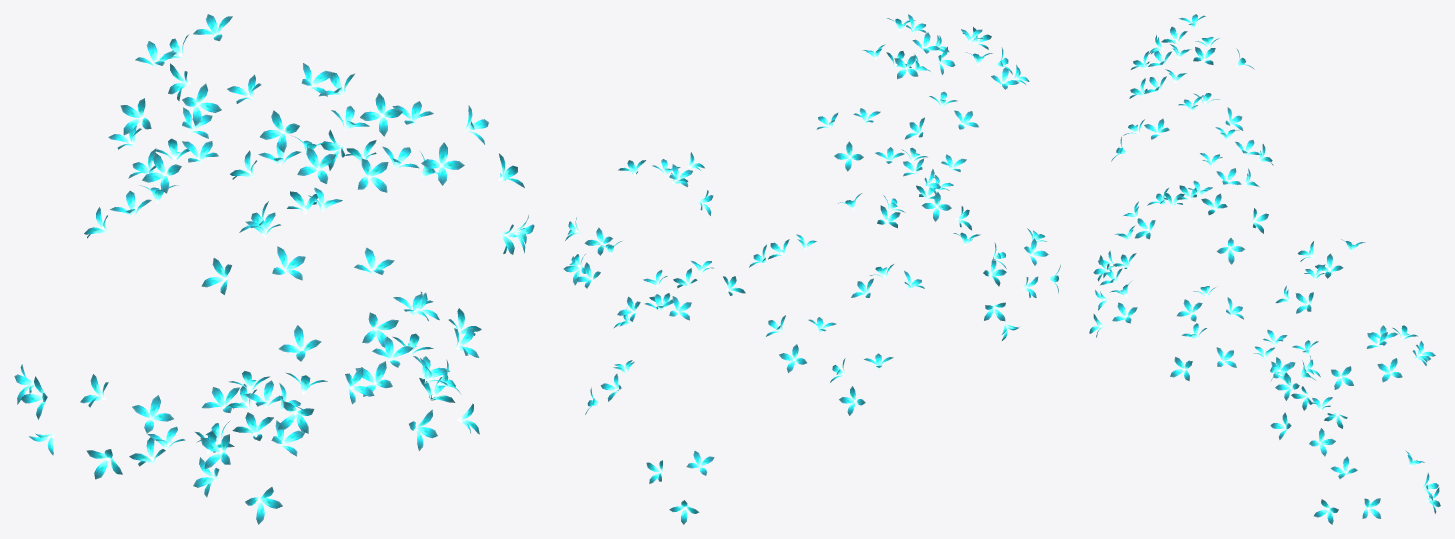
File: flowers_tall_flowers.glb
3 views of the same model, side by side, from view 1: azimuth 30°, elevation 25°; view 2: azimuth 150°, elevation 25°; view 3: azimuth 270°, elevation 25° (orthographic). The views are drawn at different scales.
Parts seen in each view (by area): view 1: flowers; view 2: flowers; view 3: flowers.
Part boxes in pixels (left/top/right/bottom): flowers: left=14, top=14, right=534, bottom=524; flowers: left=563, top=14, right=1060, bottom=524; flowers: left=1089, top=14, right=1440, bottom=524.
Size of the model in its own units: 2.58 by 2.72 by 2.02.
1 material, 1 textured.
